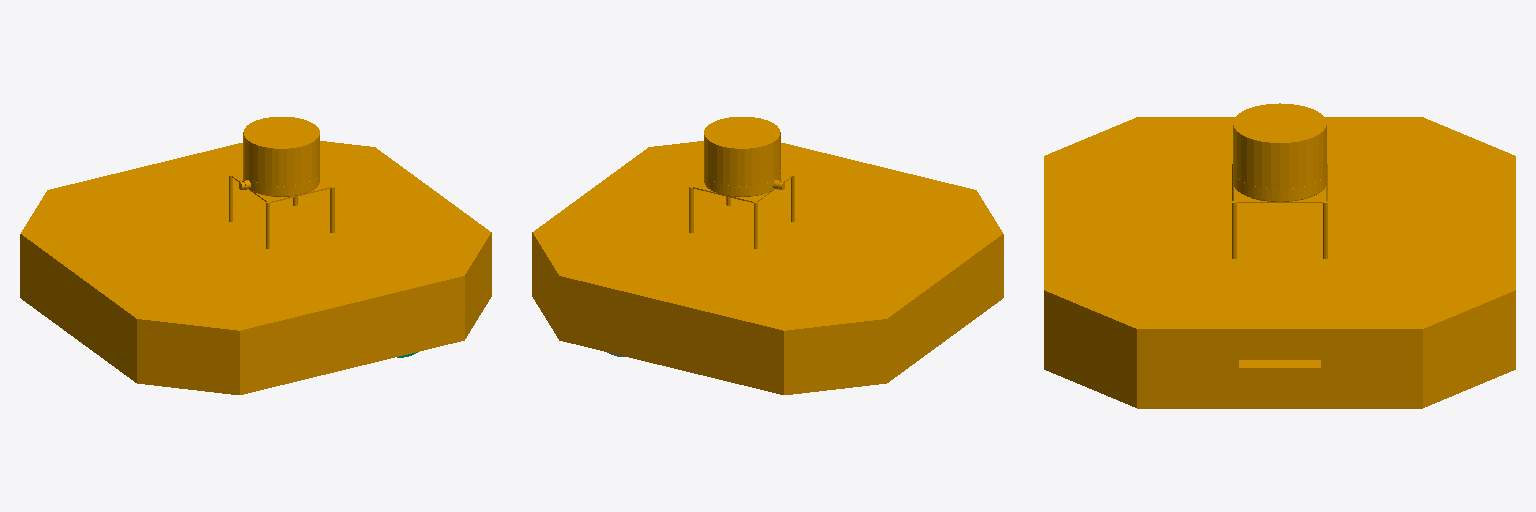
robot.urdf — dingo:
<?xml version="1.0" encoding="UTF-8"?>
<robot name="dingo">
  <!-- <joint name="joint_dingo-realsense_left_stereo_camera" type="fixed">
    <origin xyz="4.0148844e+09 1.7500892e-02 4.6999998e-02" rpy="1.5707964 0. -1.5707964"/>
    <parent link="dingo"/>
    <child link="realsense_left_stereo_camera"/>
  </joint>
  <joint name="joint_dingo-realsense_right_stereo_camera" type="fixed">
    <origin xyz="0.2889 -0.0325 0.047 " rpy="1.5707964 0. -1.5707964"/>
    <parent link="dingo"/>
    <child link="realsense_right_stereo_camera"/>
  </joint> -->
  <joint name="left_wheel_joint" type="continuous">
    <origin xyz="0.0989838 0.2261616 0.0345 " rpy="0. 0. 1.5707964"/>
    <parent link="base_link"/>
    <child link="left_wheel_link"/>
    <axis xyz="1. 0. 0."/>
  </joint>
  <joint name="right_wheel_joint" type="continuous">
    <origin xyz="0.0989838 -0.2261616 0.0345 " rpy="0. 0. 1.5707964"/>
    <parent link="base_link"/>
    <child link="right_wheel_link"/>
    <axis xyz="1. 0. 0."/>
  </joint>
  <link name="base_link">
    <visual>
      <origin xyz="0. 0. 0." rpy="0. 0. 0."/>
      <geometry>
        <mesh filename="package://dingo_description/urdf/meshes/mesh_0.obj" scale="1. 1. 1."/>
      </geometry>
    </visual>
    <visual>
      <origin xyz="0.2889 0. 0.0470125" rpy="1.5707964 -0. 1.5707964"/>
      <geometry>
        <mesh filename="package://dingo_description/urdf/meshes/mesh_1.obj" scale="1. 1. 1."/>
      </geometry>
    </visual>
    <visual>
      <origin xyz="0.09 0.05 0.114263" rpy="0. 0. 0."/>
      <geometry>
        <cylinder radius="0.003" length="0.1"/>
      </geometry>
    </visual>
    <visual>
      <origin xyz="0.09 -0.05 0.114263" rpy="0. 0. 0."/>
      <geometry>
        <cylinder radius="0.003" length="0.1"/>
      </geometry>
    </visual>
    <visual>
      <origin xyz="-0.01 0.05 0.114263" rpy="0. 0. 0."/>
      <geometry>
        <cylinder radius="0.003" length="0.1"/>
      </geometry>
    </visual>
    <visual>
      <origin xyz="-0.01 -0.05 0.114263" rpy="0. 0. 0."/>
      <geometry>
        <cylinder radius="0.003" length="0.1"/>
      </geometry>
    </visual>
    <visual>
      <origin xyz="0.04 0. 0.163263" rpy="0. 0. 0."/>
      <geometry>
        <box size="0.1 0.1 0.002"/>
      </geometry>
    </visual>
    <visual>
      <origin xyz="0.04 0. 0.164263" rpy="0. 0. 0."/>
      <geometry>
        <mesh filename="package://dingo_description/urdf/meshes/mesh_7.obj" scale="1. 1. 1."/>
      </geometry>
    </visual>
    <visual>
      <origin xyz="0.04 0. 0.164263" rpy="0. 0. 0."/>
      <geometry>
        <mesh filename="package://dingo_description/urdf/meshes/mesh_8.obj" scale="1. 1. 1."/>
      </geometry>
    </visual>
    <visual>
      <origin xyz="0.04 0. 0.164263" rpy="0. 0. 0."/>
      <geometry>
        <mesh filename="package://dingo_description/urdf/meshes/mesh_9.obj" scale="1. 1. 1."/>
      </geometry>
    </visual>
    <visual>
      <origin xyz="-0.244 0. -0.00674" rpy="0. 0. 0."/>
      <geometry>
        <sphere radius="0.01"/>
      </geometry>
    </visual>
    <visual>
      <origin xyz="0. 0. 0." rpy="0. 0. 0."/>
      <geometry>
        <mesh filename="package://dingo_description/urdf/meshes/body.obj" scale="1. 1. 1."/>
      </geometry>
    </visual>
    <visual>
      <origin xyz="0.2846 0. 0.0470125" rpy="0. 0. 0."/>
      <geometry>
        <box size="0.02505 0.09 0.025 "/>
      </geometry>
    </visual>
    <visual>
      <origin xyz="0.04 0. 0.200113" rpy="0. 0. 0."/>
      <geometry>
        <cylinder radius="0.0516" length="0.0717"/>
      </geometry>
    </visual>
    <collision>
      <origin xyz="0. 0. 0." rpy="0. 0. 0."/>
      <geometry>
        <mesh filename="package://dingo_description/urdf/meshes/body.obj" scale="1. 1. 1."/>
      </geometry>
    </collision>
    <collision>
      <origin xyz="0.2846 0. 0.0470125" rpy="0. 0. 0."/>
      <geometry>
        <box size="0.02505 0.09 0.025 "/>
      </geometry>
    </collision>
    <collision>
      <origin xyz="0.04 0. 0.200113" rpy="0. 0. 0."/>
      <geometry>
        <cylinder radius="0.0516" length="0.0717"/>
      </geometry>
    </collision>
    <collision>
      <origin xyz="-0.244 0. -0.00674" rpy="0. 0. 0."/>
      <geometry>
        <sphere radius="0.01"/>
      </geometry>
    </collision>
  </link>
  <link name="left_wheel_link">
    <inertial>
      <origin xyz="0. 0. 0." rpy="0. 0. 0."/>
      <mass value="0.111"/>
      <inertia ixx="0." ixy="0." ixz="0." iyy="0." iyz="0." izz="0."/>
    </inertial>
    <visual>
      <origin xyz="0. 0. 0." rpy="0. 0. -1.5707964"/>
      <geometry>
        <mesh filename="package://dingo_description/urdf/meshes/left_wheel_link_visuals.obj" scale="1. 1. 1."/>
      </geometry>
    </visual>
    <visual>
      <origin xyz="0. 0. 0." rpy="1.5707964 0. -1.5707964"/>
      <geometry>
        <cylinder radius="0.049" length="0.02032"/>
      </geometry>
    </visual>
    <collision>
      <origin xyz="0. 0. 0." rpy="1.5707964 0. -1.5707964"/>
      <geometry>
        <cylinder radius="0.049" length="0.02032"/>
      </geometry>
    </collision>
  </link>
  <!-- <link name="realsense_left_stereo_camera"/>
  <link name="realsense_right_stereo_camera"/> -->
  <link name="right_wheel_link">
    <inertial>
      <origin xyz="0. 0. 0." rpy="0. 0. 0."/>
      <mass value="0.111"/>
      <inertia ixx="0." ixy="0." ixz="0." iyy="0." iyz="0." izz="0."/>
    </inertial>
    <visual>
      <origin xyz="0. 0. 0." rpy="0. 0. -1.5707964"/>
      <geometry>
        <mesh filename="package://dingo_description/urdf/meshes/right_wheel_link_visuals.obj" scale="1. 1. 1."/>
      </geometry>
    </visual>
    <visual>
      <origin xyz="0. 0. 0." rpy="1.5707964 0. -1.5707964"/>
      <geometry>
        <cylinder radius="0.049" length="0.02032"/>
      </geometry>
    </visual>
    <collision>
      <origin xyz="0. 0. 0." rpy="1.5707964 0. -1.5707964"/>
      <geometry>
        <cylinder radius="0.049" length="0.02032"/>
      </geometry>
    </collision>
  </link>
</robot>

--- Render facts (derived) ---
The picture shows the robot from 3 angles, left to right: view 1: azimuth 30°, elevation 25°; view 2: azimuth 150°, elevation 25°; view 3: azimuth 270°, elevation 25°; orthographic projection.
Robot: dingo — 3 links, 2 joints (2 continuous); root link base_link; default pose: all joints at 0.
Links seen in each view (by area): view 1: base_link; view 2: base_link; view 3: base_link.
Boxes of the visible links, x1,y1,x2,y2 form: base_link: (20,117,491,394); base_link: (532,117,1003,394); base_link: (1044,103,1515,408).
Bounding box of the posed robot: 0.5727 × 0.5172 × 0.2527 m (x, y, z).
6 mesh visuals loaded from 8 distinct referenced files (6 OBJ); not drawn: 2 (reference not matched to a file when rendering).
